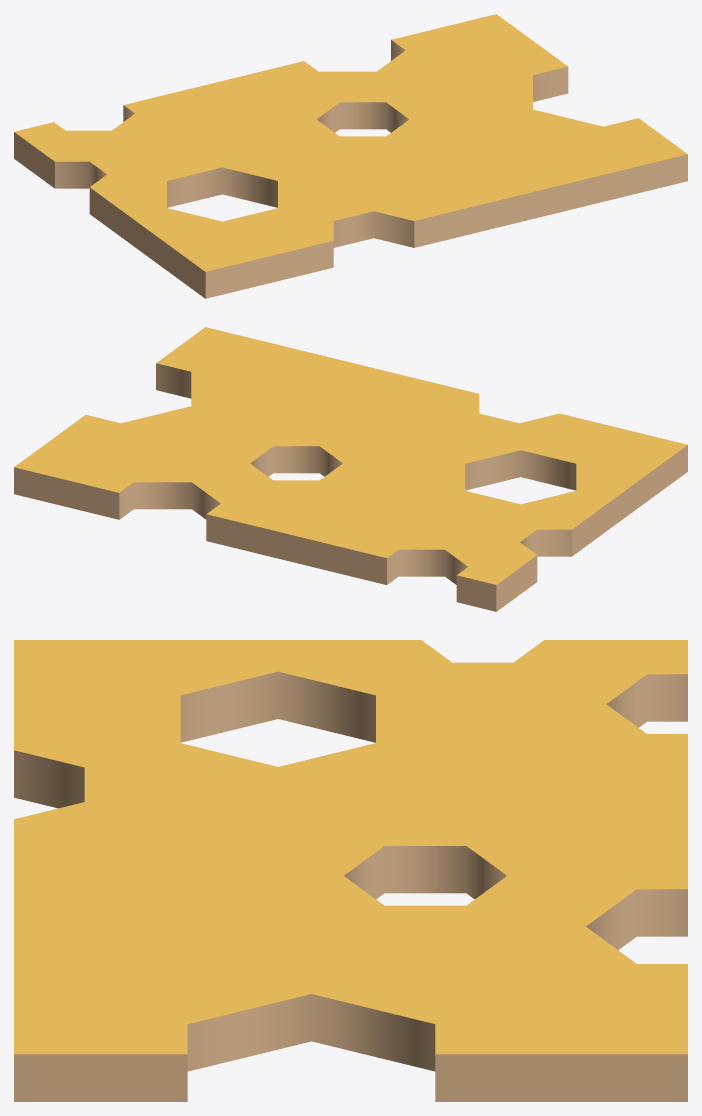
Rendered from cheeseCut.GLB.
The picture shows the model from 3 angles, top to bottom: view 1: azimuth 30°, elevation 25°; view 2: azimuth 150°, elevation 25°; view 3: azimuth 270°, elevation 25°; orthographic projection. The views are drawn at different scales.
Parts seen in each view (by area): view 1: cheeseCut; view 2: cheeseCut; view 3: cheeseCut.
Part boxes in pixels (<box>): cheeseCut: <box>14,14,687,298</box>; cheeseCut: <box>14,327,687,611</box>; cheeseCut: <box>14,640,687,1101</box>.
Size of the model in its own units: 0.384 by 0.0205 by 0.264.
